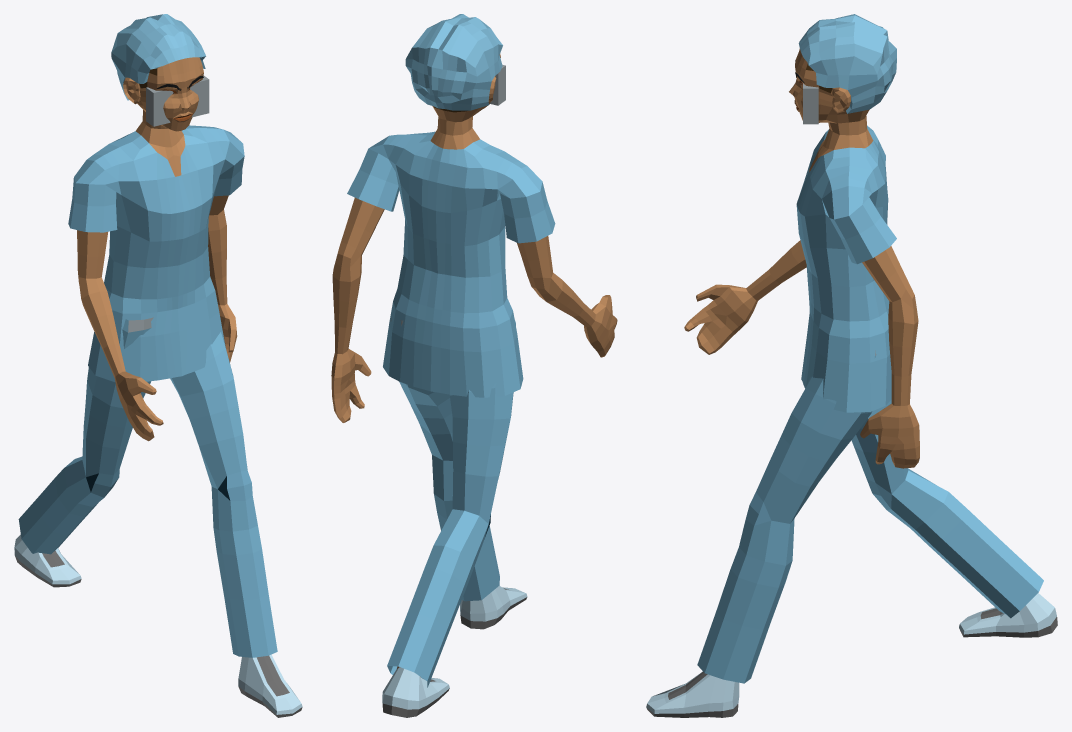
Rendered from Doctor_Walk_Mask.fbx.
The picture shows the model from 3 angles, left to right: view 1: azimuth 30°, elevation 25°; view 2: azimuth 150°, elevation 25°; view 3: azimuth 270°, elevation 25°; orthographic projection. The views are drawn at different scales.
Visible parts, largest first — view 1: Doctor_Walk_Mask; view 2: Doctor_Walk_Mask; view 3: Doctor_Walk_Mask.
Part boxes in pixels (box(x1,y1,x2,y2)): Doctor_Walk_Mask: box(14, 14, 302, 717); Doctor_Walk_Mask: box(331, 14, 617, 717); Doctor_Walk_Mask: box(646, 14, 1057, 717).
Bounding box in the file's own units: 0.3141 × 1.04 × 0.5758.
